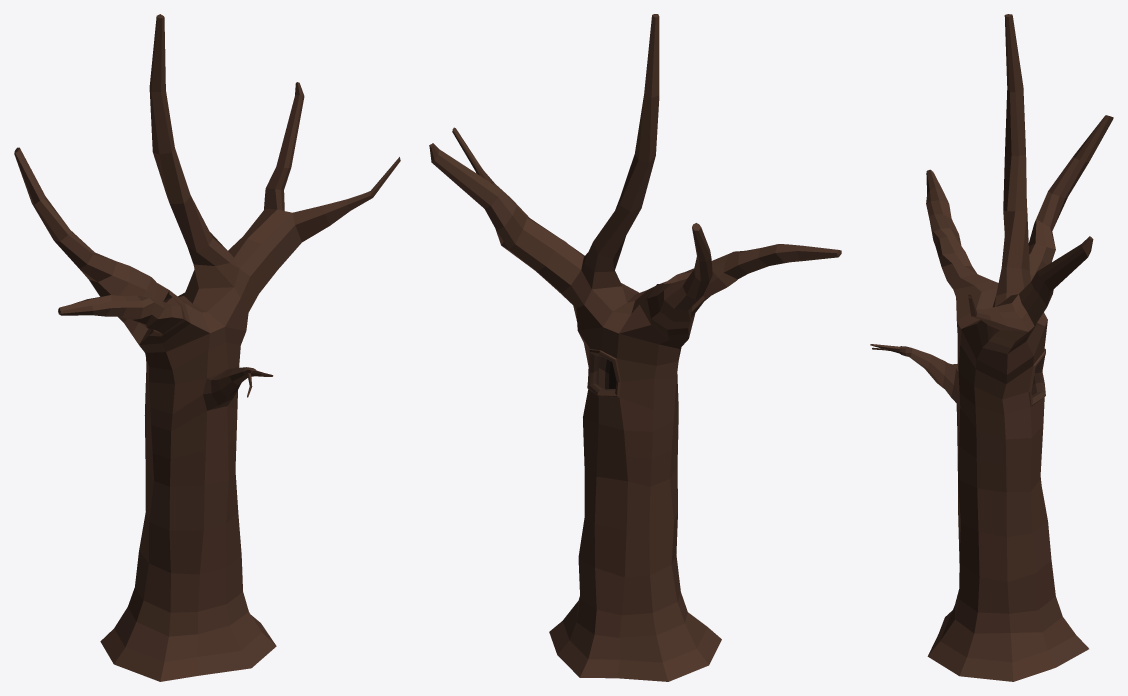
The model's file is tree_002.fbx.
3 renders of one model, left to right at view 1: azimuth 30°, elevation 25°; view 2: azimuth 150°, elevation 25°; view 3: azimuth 270°, elevation 25°, orthographic. The views are drawn at different scales.
Parts seen in each view (by area): view 1: tree_002; view 2: tree_002; view 3: tree_002.
Part boxes in pixels (<box>): tree_002: <box>14,14,400,681</box>; tree_002: <box>429,14,841,681</box>; tree_002: <box>870,14,1113,681</box>.
Bounding box in the file's own units: 1312 × 2194 × 781.
